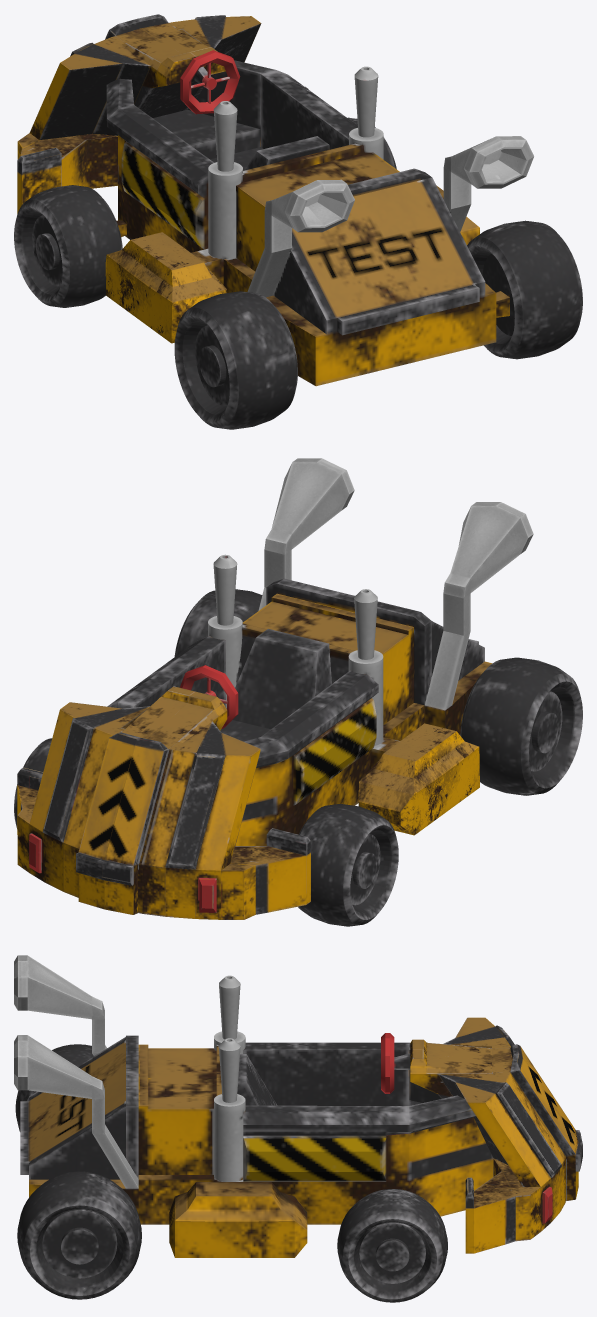
Rendered from kart_physics.fbx.
3 views of the same model, one above another, from view 1: azimuth 30°, elevation 25°; view 2: azimuth 150°, elevation 25°; view 3: azimuth 270°, elevation 25° (orthographic). The views are drawn at different scales.
Visible parts, largest first — view 1: kart; view 2: kart; view 3: kart.
Boxes of the visible parts, x1,y1,x2,y2 form: kart: (14,14,582,429); kart: (14,458,582,926); kart: (14,955,582,1302).
Size of the model in its own units: 259 by 179 by 395.
1 material, 1 textured.
